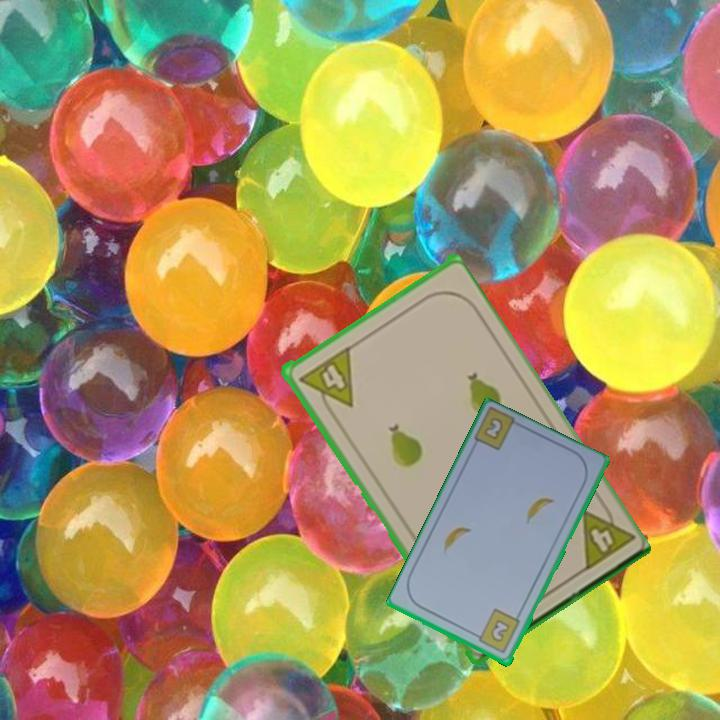2b: (470, 606, 523, 657), (482, 416, 504, 441)
4p: (294, 343, 356, 420), (577, 495, 636, 575)
